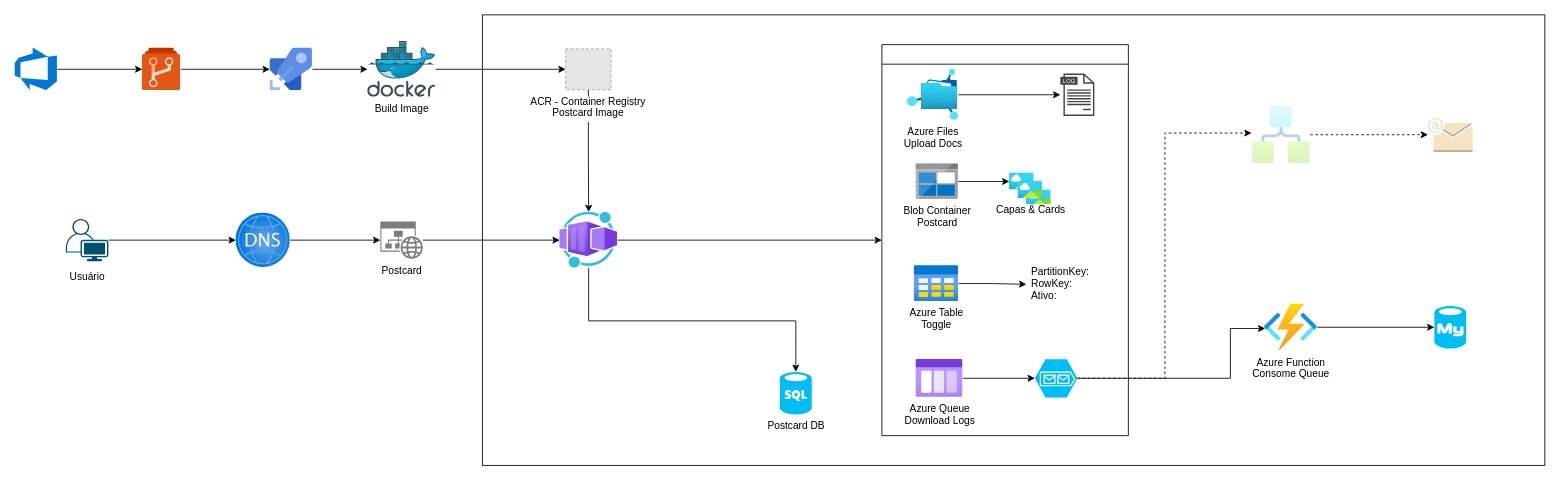
This 1560x480 diagram has some shape labels left out. Grey dashed boxes stand in for pictures. The box of each missing label's shape, as (x1, y1, x2, y2) in pixels:
Container App: (559, 212, 617, 268)
DNS Zone augroberto.com.br: (235, 212, 290, 267)
Docs: (1060, 73, 1094, 116)
Messagens JSon: (1034, 359, 1077, 397)
Persist Logs: (1434, 306, 1466, 348)
Storage Account: (881, 44, 1128, 436)
